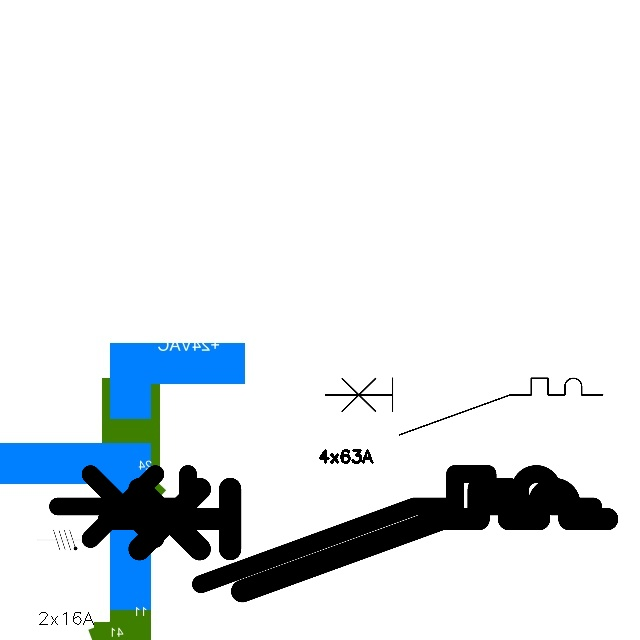interruptor_termomagnetico: (44, 460, 607, 597), (96, 476, 619, 604), (318, 371, 610, 442)
